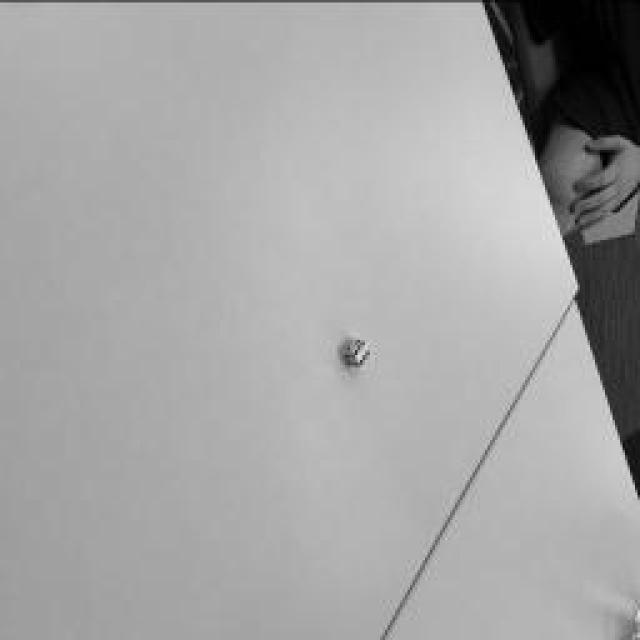dice_6: (355, 339, 370, 366)
